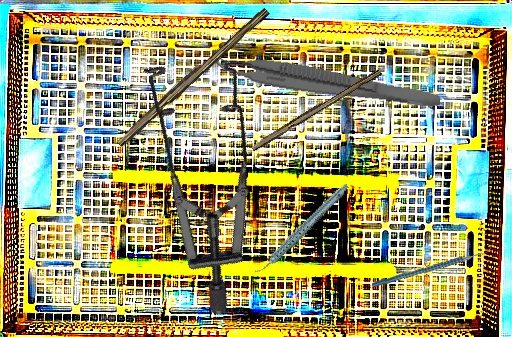Chopper: (371, 235, 496, 294)
Handpiece: (239, 182, 363, 275)
Scalpel Handle: (113, 2, 271, 151), (249, 65, 383, 154)
Speculum: (60, 24, 329, 318)
Tissue Forceps: (209, 48, 444, 111)
